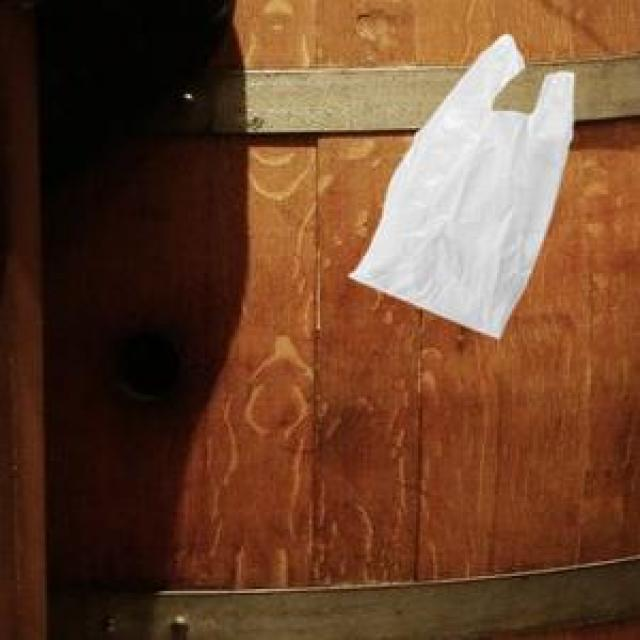waste: (350, 35, 574, 338)
